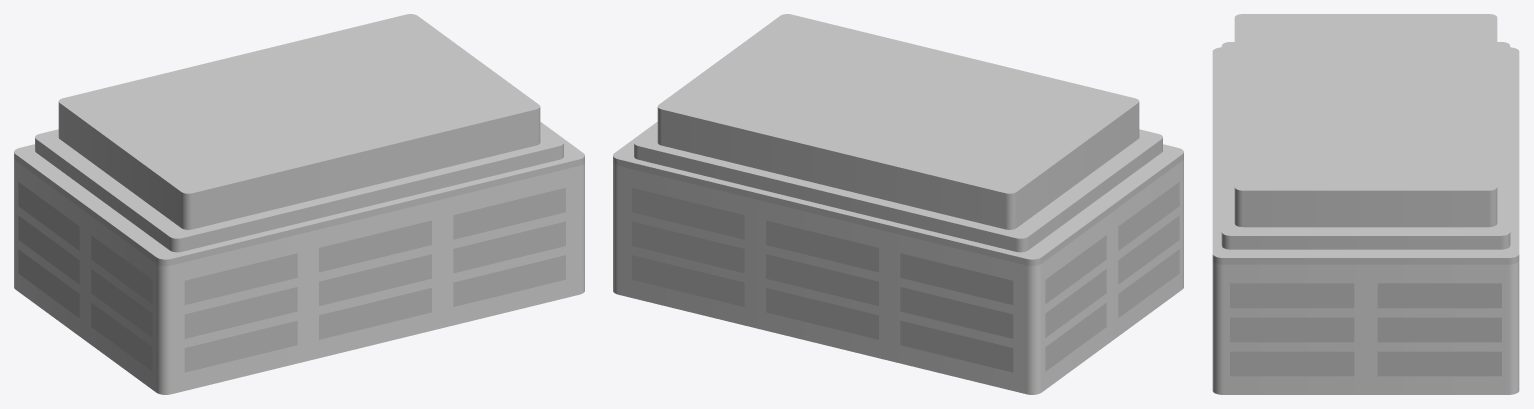
Rendered from House E.fbx.
The picture shows the model from 3 angles, left to right: view 1: azimuth 30°, elevation 25°; view 2: azimuth 150°, elevation 25°; view 3: azimuth 270°, elevation 25°; orthographic projection.
Visible parts, largest first — view 1: House E Roof, House E; view 2: House E Roof, House E; view 3: House E Roof, House E.
Boxes of the visible parts, x1=… form: House E Roof: x1=14, y1=14, x2=584, y2=265; House E: x1=14, y1=159, x2=584, y2=394; House E Roof: x1=613, y1=14, x2=1183, y2=265; House E: x1=613, y1=159, x2=1183, y2=394; House E Roof: x1=1212, y1=14, x2=1519, y2=264; House E: x1=1212, y1=261, x2=1519, y2=394.
Size of the model in its own units: 1869 by 773 by 1150.
